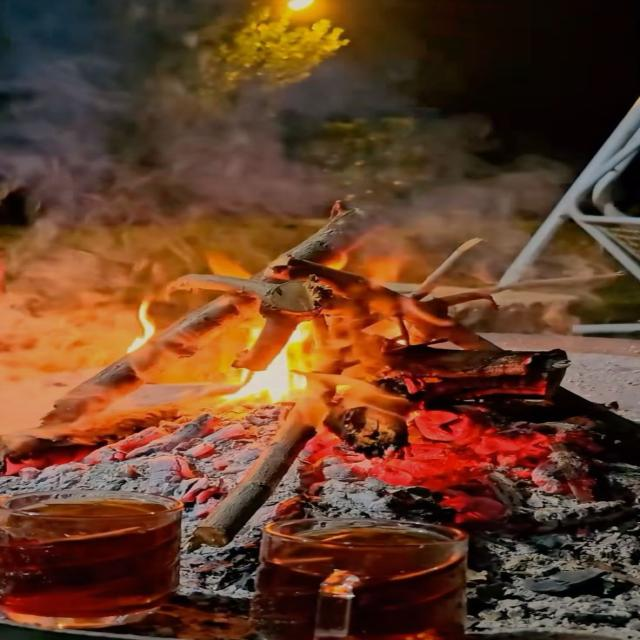fire: (214, 317, 311, 403), (125, 294, 155, 351)
